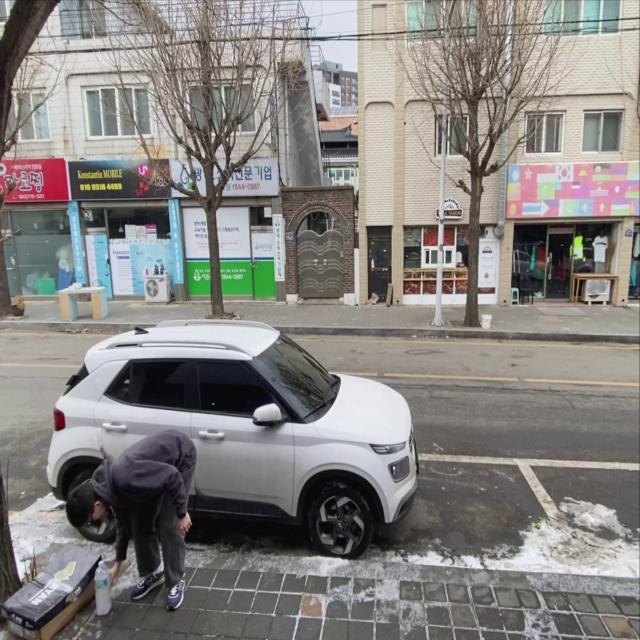bare_hand: (104, 561, 123, 591), (177, 512, 194, 534)
